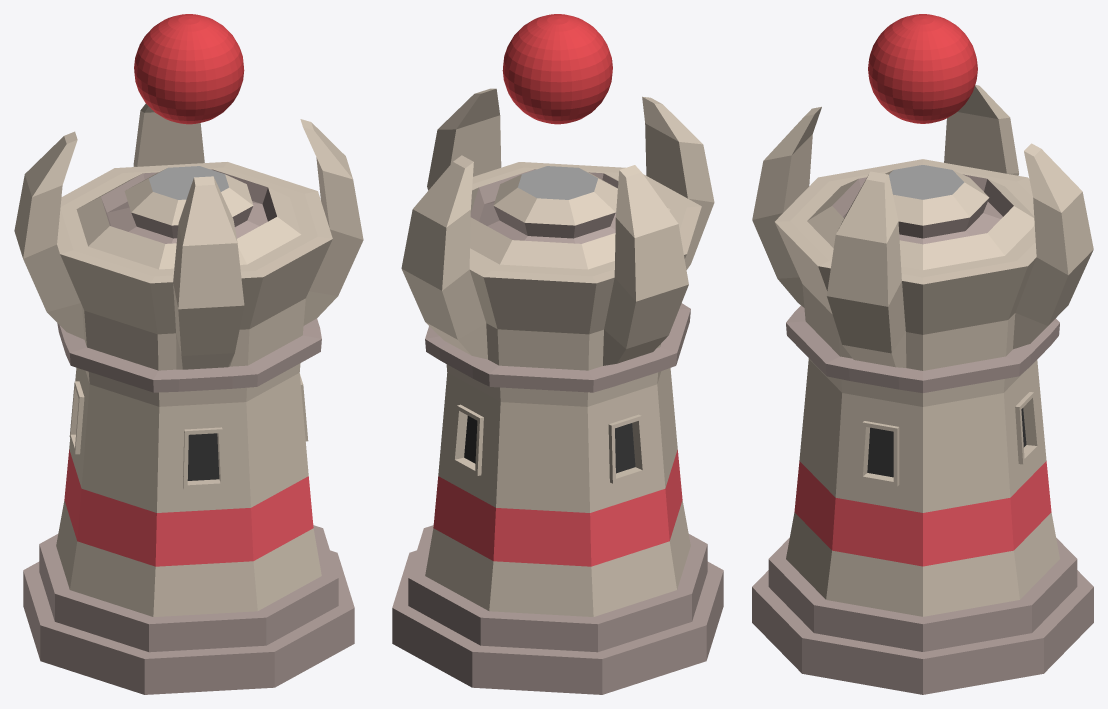
The model's file is Mage Tower.fbx.
The picture shows the model from 3 angles, left to right: view 1: azimuth 30°, elevation 25°; view 2: azimuth 150°, elevation 25°; view 3: azimuth 270°, elevation 25°; orthographic projection.
Parts seen in each view (by area): view 1: Cylinder.004, Sphere; view 2: Cylinder.004, Sphere; view 3: Cylinder.004, Sphere.
Part boxes in pixels (x1,y1,x2,y2): Cylinder.004: [14, 103, 363, 694]; Sphere: [134, 14, 244, 124]; Cylinder.004: [392, 88, 723, 694]; Sphere: [502, 14, 612, 124]; Cylinder.004: [752, 85, 1093, 694]; Sphere: [868, 14, 977, 123].
Size of the model in its own units: 247 by 481 by 247.
